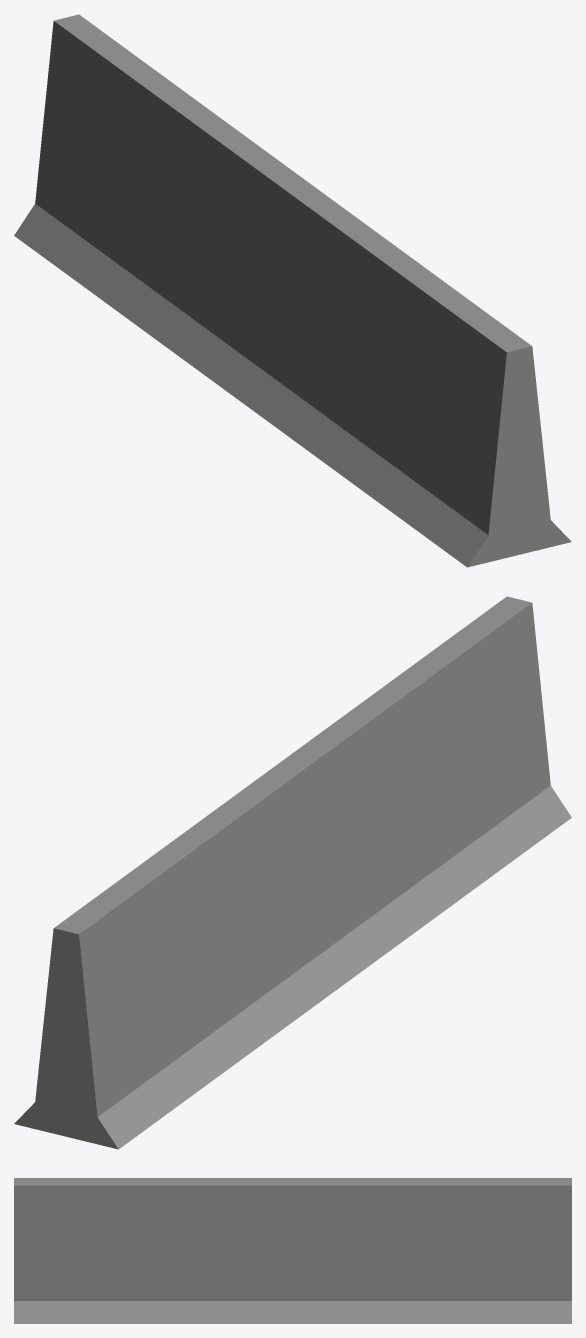
Rendered from RoadPart_07.fbx.
3 views of the same model, one above another, from view 1: azimuth 30°, elevation 25°; view 2: azimuth 150°, elevation 25°; view 3: azimuth 270°, elevation 25° (orthographic). The views are drawn at different scales.
Parts seen in each view (by area): view 1: RoadPart_07; view 2: RoadPart_07; view 3: RoadPart_07.
Boxes of the visible parts, left/top/right/bottom form: RoadPart_07: left=14, top=14, right=571, bottom=567; RoadPart_07: left=14, top=596, right=571, bottom=1149; RoadPart_07: left=14, top=1178, right=571, bottom=1323.
Bounding box in the file's own units: 40 × 75 × 300.
